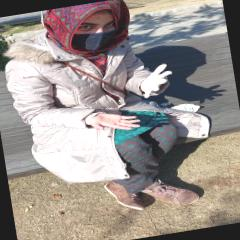gloved: (138, 62, 174, 98)
not-gloved: (93, 108, 142, 136)
